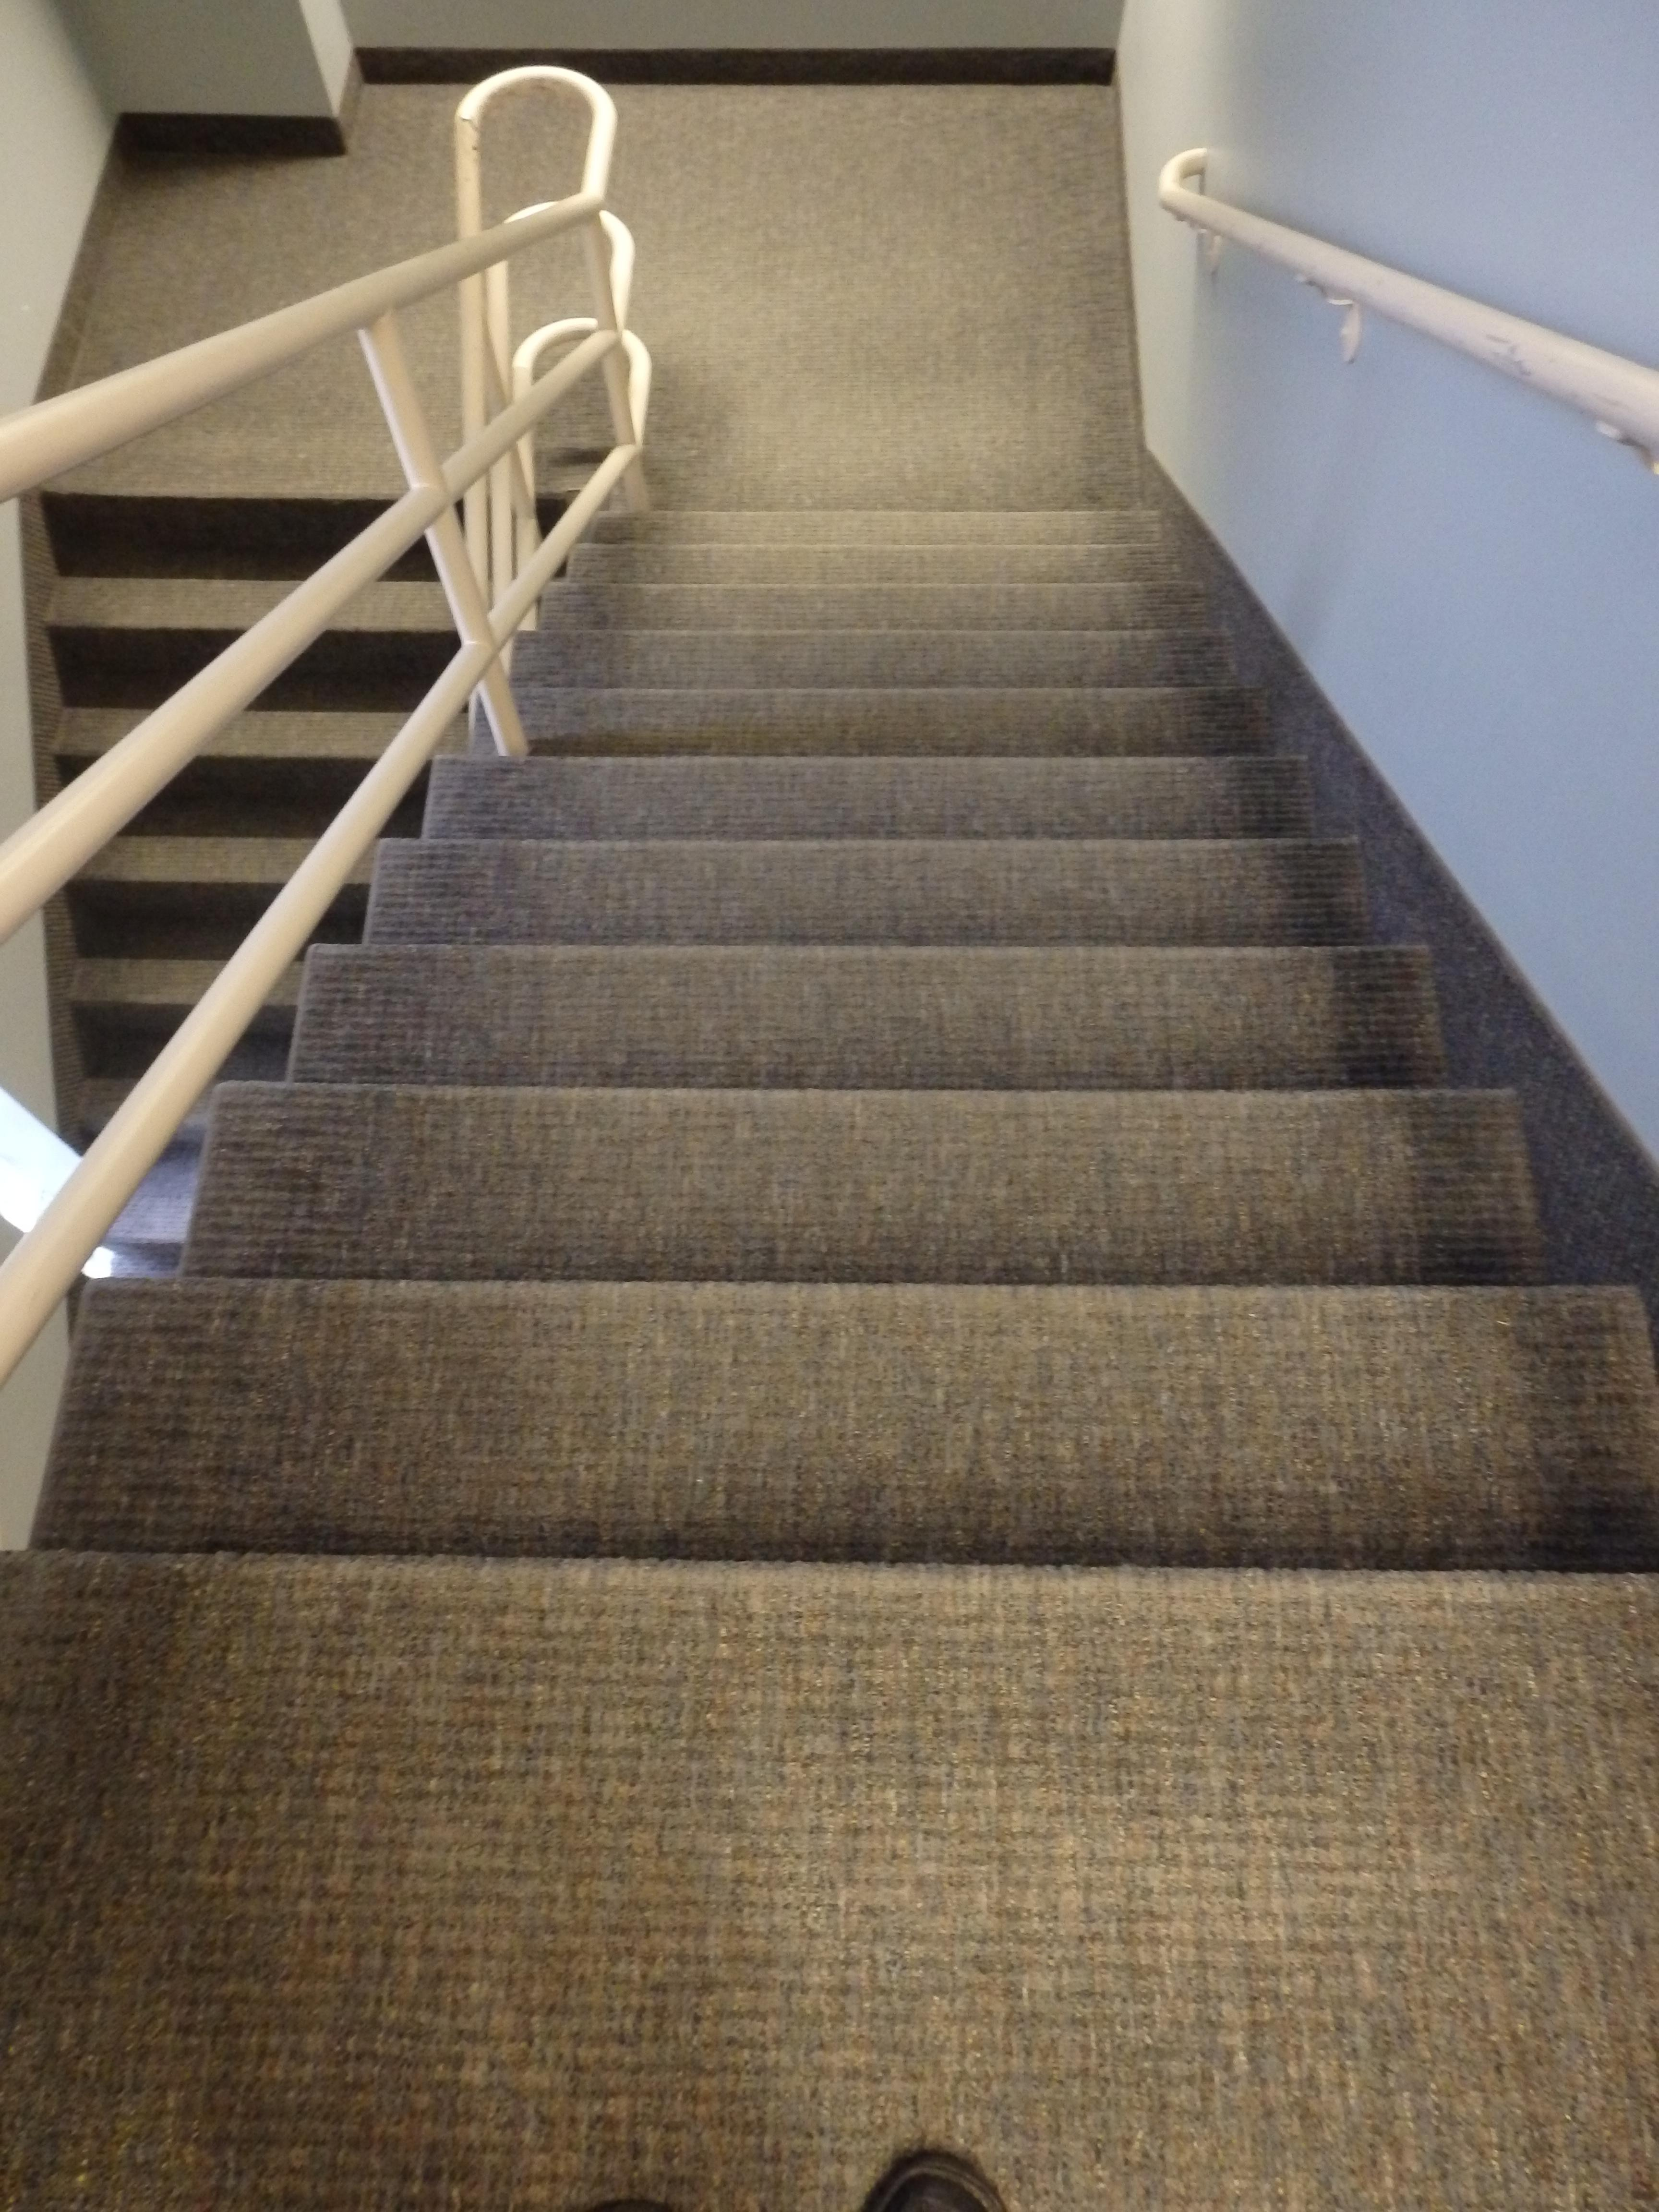stairs_down: (338, 444, 1492, 1669)
